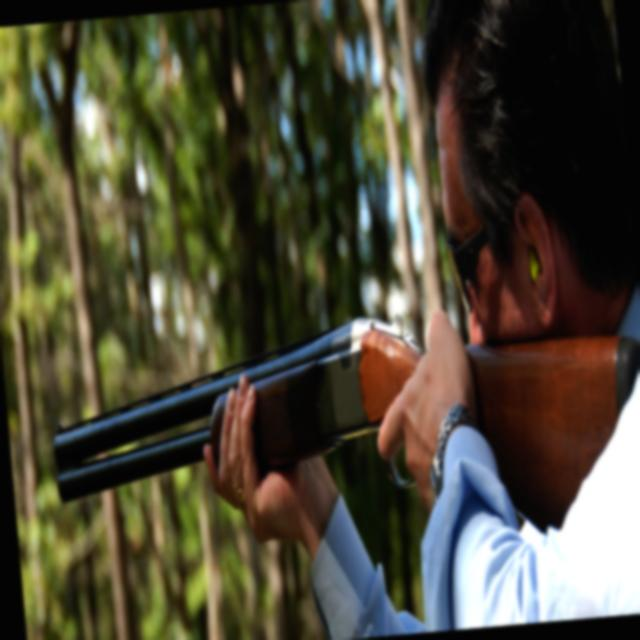shotgun: (31, 283, 640, 594)
